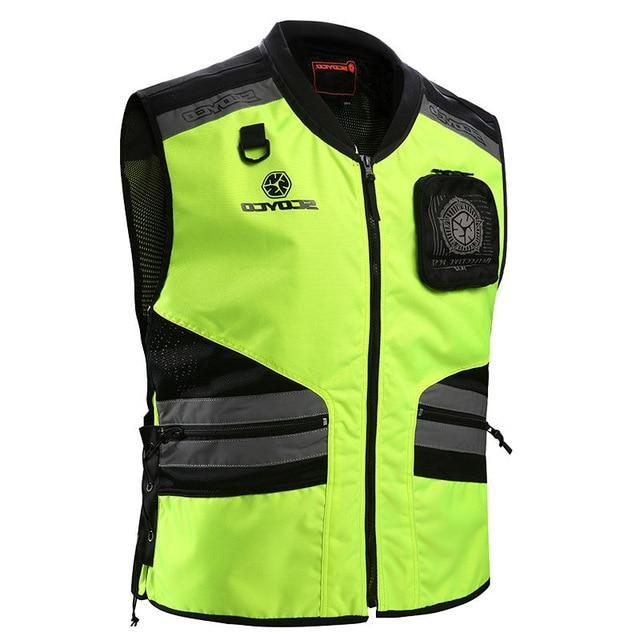Reflective-Jacket: (88, 21, 533, 640)
